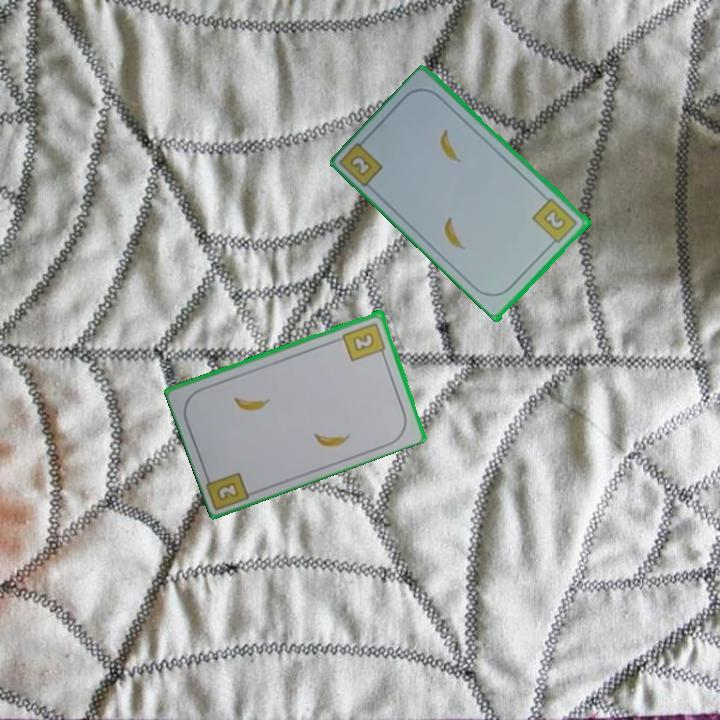2b: (529, 194, 581, 249), (339, 319, 389, 364), (347, 151, 375, 179), (213, 478, 242, 504)
